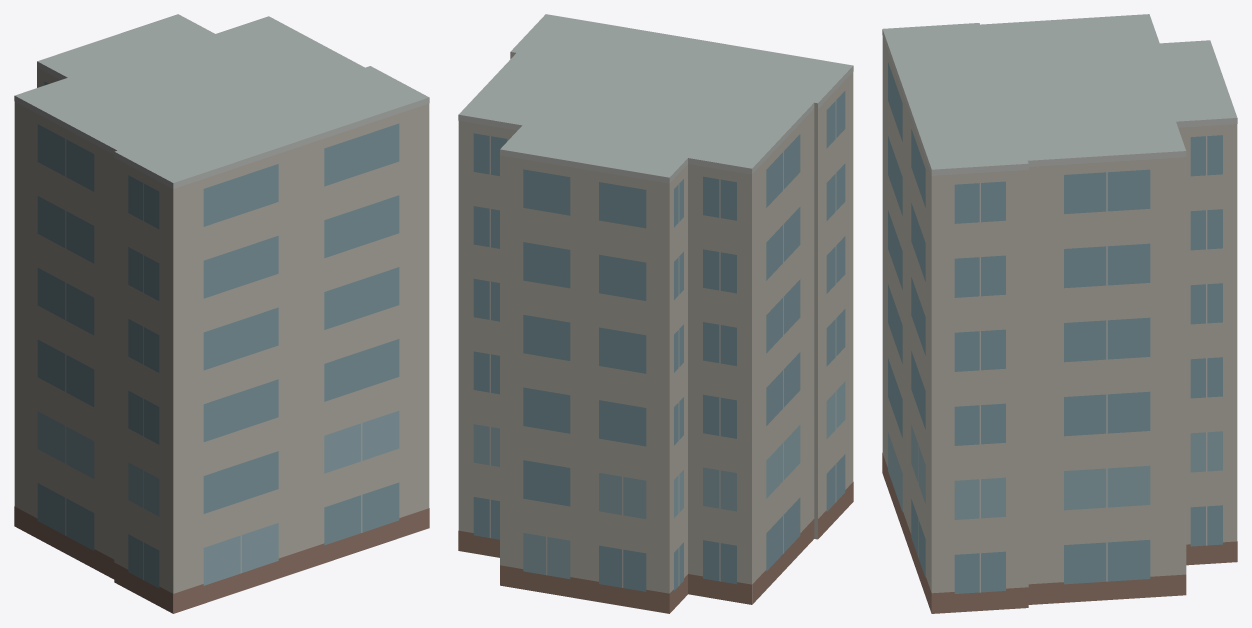
File: survey-upis-33000257.glb
3 views of the same model, side by side, from view 1: azimuth 30°, elevation 25°; view 2: azimuth 150°, elevation 25°; view 3: azimuth 270°, elevation 25° (orthographic). The views are drawn at different scales.
Visible parts, largest first — view 1: survey-upis-33000257.tmp; view 2: survey-upis-33000257.tmp; view 3: survey-upis-33000257.tmp.
Part boxes in pixels (x1=…): survey-upis-33000257.tmp: x1=14, y1=14, x2=429, y2=613; survey-upis-33000257.tmp: x1=458, y1=14, x2=853, y2=613; survey-upis-33000257.tmp: x1=882, y1=14, x2=1237, y2=613.
Bounding box in the file's own units: 13.39 × 17.8 × 12.9.
